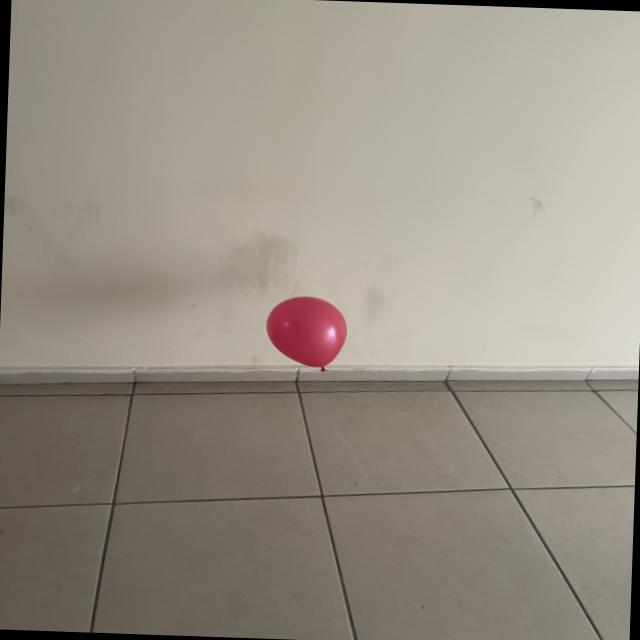balloon: (266, 296, 347, 370)
